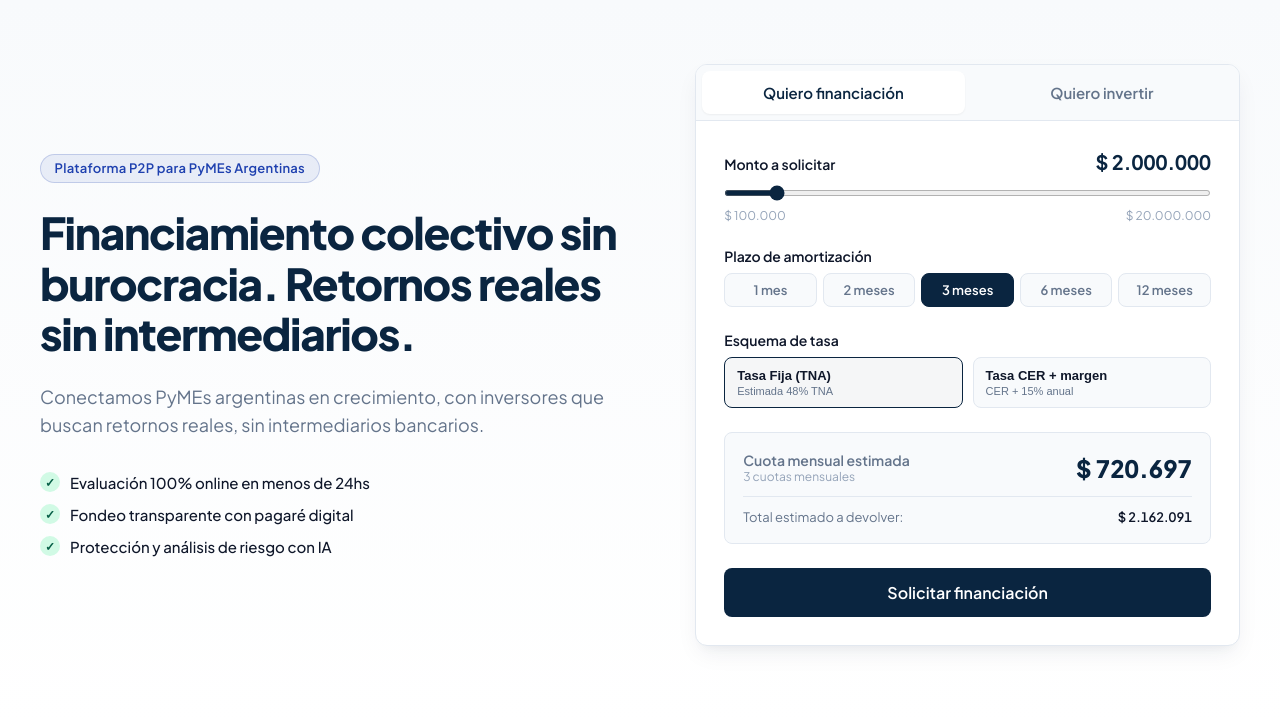
it: HeroSimulator Component › Borrower Mode › renders amount slider with bounds ($100.000 to $20.000.000) and updates installment immediately on slider change
Set the slider labelled "Monto a solicitar" to "1500000": {"x": 765, "y": 193} [724, 190, 1211, 196]
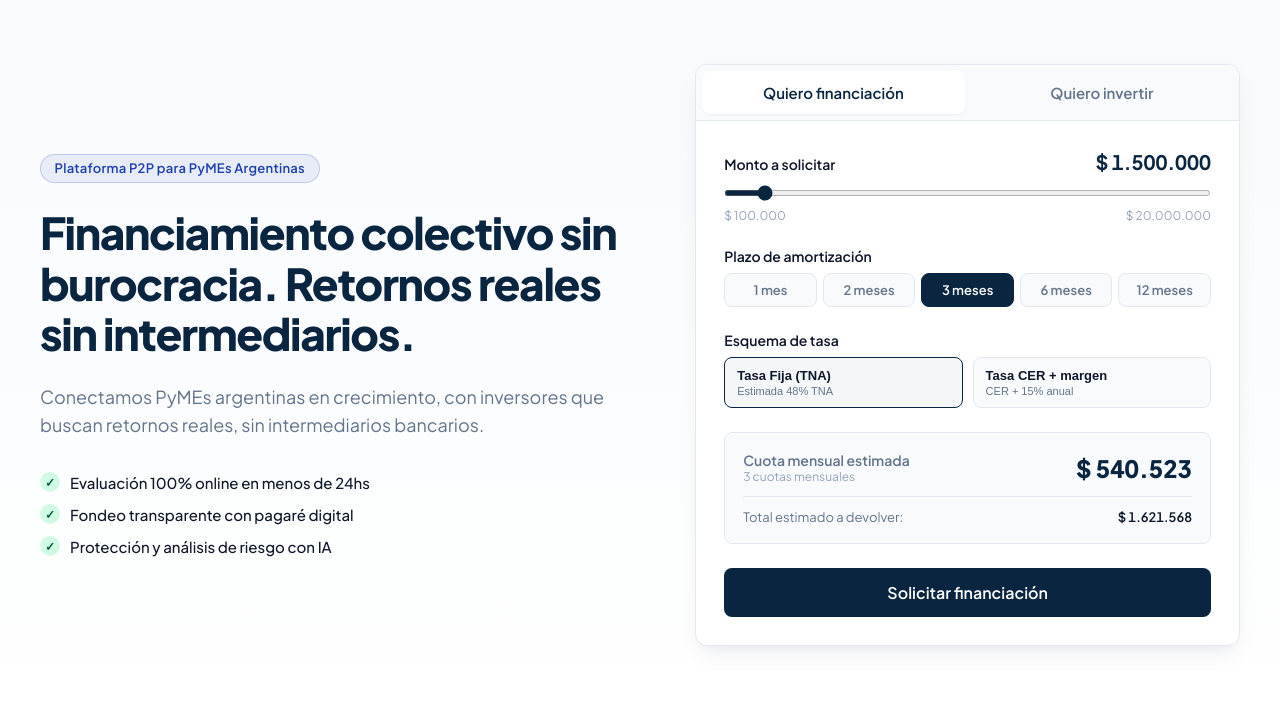
Expected: the text with test id "borrower-installment-value" reads "$ 540.523", [1076, 452, 1192, 482]
Expected: the text with test id "borrower-amount-display" reads "$ 1.500.000", [1095, 149, 1211, 174]
